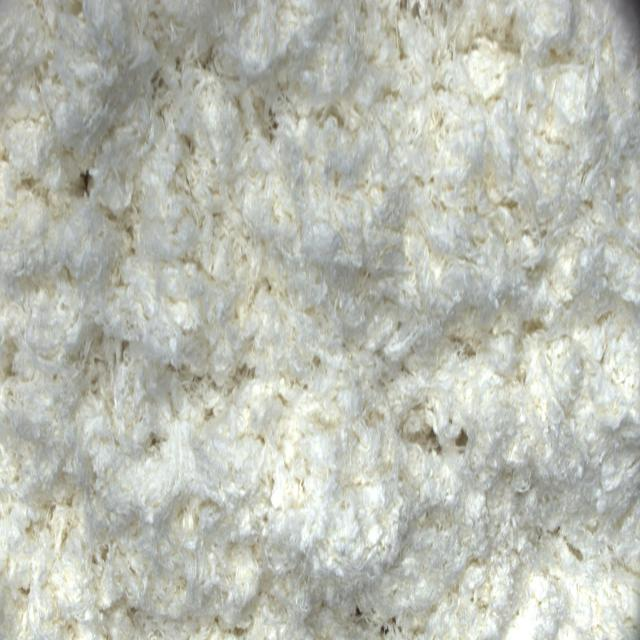dust: (75, 166, 103, 205)
